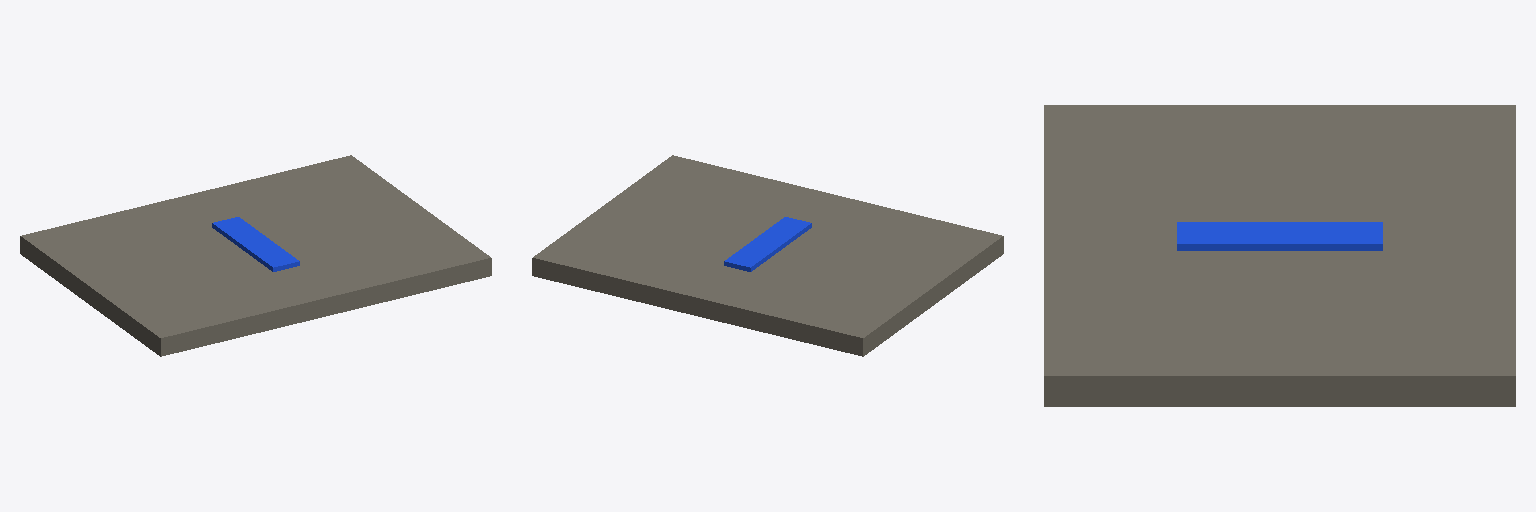
URDF robot description (parttoolgen_tabletop_proxy_v0):
<?xml version="1.0"?>
<robot name="parttoolgen_tabletop_proxy_v0">
  <link name="tabletop_proxy">
    <visual>
      <material name="wood">
        <color rgba="0.52 0.50 0.46 1.0"/>
      </material>
      <origin xyz="0 0 0"/>
      <geometry>
        <box size="0.75 0.55 0.04"/>
      </geometry>
    </visual>
    <collision>
      <origin xyz="0 0 0"/>
      <geometry>
        <box size="0.75 0.55 0.04"/>
      </geometry>
    </collision>

    <visual>
      <material name="target_patch">
        <color rgba="0.18 0.40 0.95 0.82"/>
      </material>
      <origin xyz="0.0 0.0 0.025"/>
      <geometry>
        <box size="0.06 0.24 0.01"/>
      </geometry>
    </visual>

    <inertial>
      <mass value="500"/>
      <friction value="1.0"/>
      <inertia ixx="1000.0" ixy="0.0" ixz="0.0" iyy="1000.0" iyz="0.0" izz="1000.0"/>
    </inertial>
  </link>
</robot>

--- Render facts (derived) ---
3 views of the same robot in one strip: view 1: azimuth 30°, elevation 25°; view 2: azimuth 150°, elevation 25°; view 3: azimuth 270°, elevation 25° (orthographic).
Robot: parttoolgen_tabletop_proxy_v0 — 1 links, 0 joints (none); root link tabletop_proxy; default pose: every joint at zero.
Visible links, largest first — view 1: tabletop_proxy; view 2: tabletop_proxy; view 3: tabletop_proxy.
Boxes of the visible links, x1,y1,x2,y2 form: tabletop_proxy: (20,155,491,356); tabletop_proxy: (532,155,1003,356); tabletop_proxy: (1044,105,1515,406).
Size in the robot's own frame: 0.75 by 0.55 by 0.05 metres.
Geometry: primitives only (box / cylinder / sphere), no mesh files.
